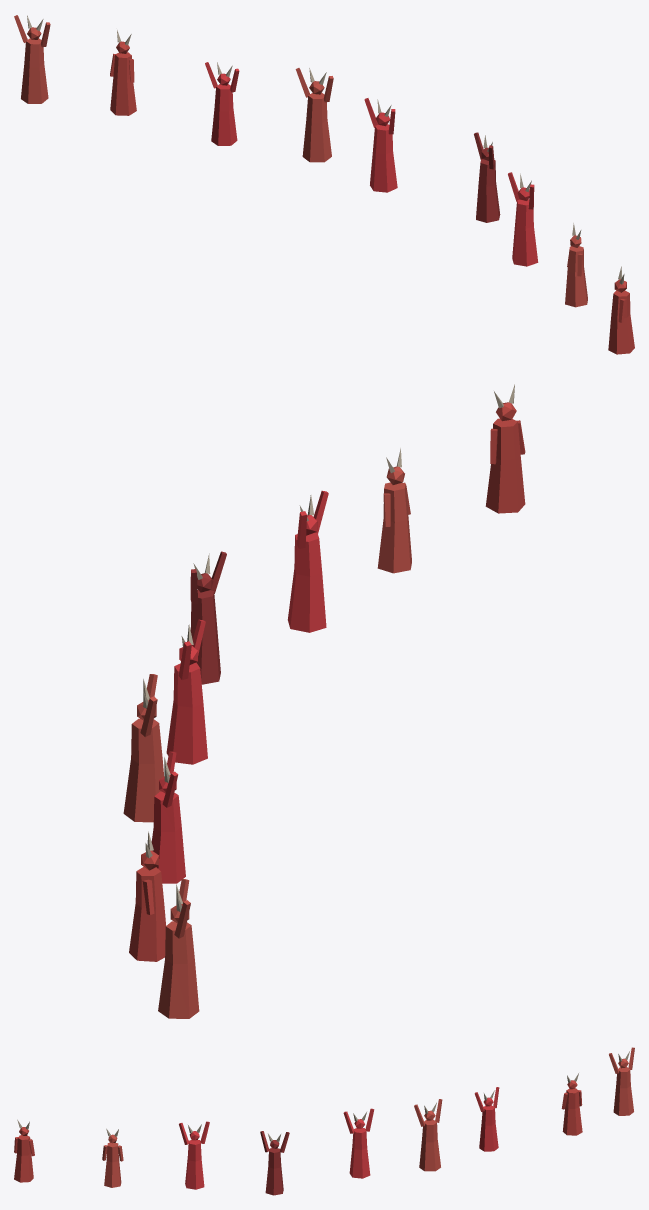
Rendered from Stands_5_1_2_Ice.obj.
3 views of the same model, one above another, from view 1: azimuth 30°, elevation 25°; view 2: azimuth 150°, elevation 25°; view 3: azimuth 270°, elevation 25° (orthographic). The views are drawn at different scales.
Parts seen in each view (by area): view 1: Stands_5_1_2_Ice; view 2: Stands_5_1_2_Ice; view 3: Stands_5_1_2_Ice.
Boxes of the visible parts, box(x1,y1,x2,y2) form: Stands_5_1_2_Ice: box(14, 15, 634, 354); Stands_5_1_2_Ice: box(123, 384, 525, 1018); Stands_5_1_2_Ice: box(14, 1047, 634, 1195).
Bounding box in the file's own units: 11.65 × 3.97 × 34.49.
1 material, 1 textured.
